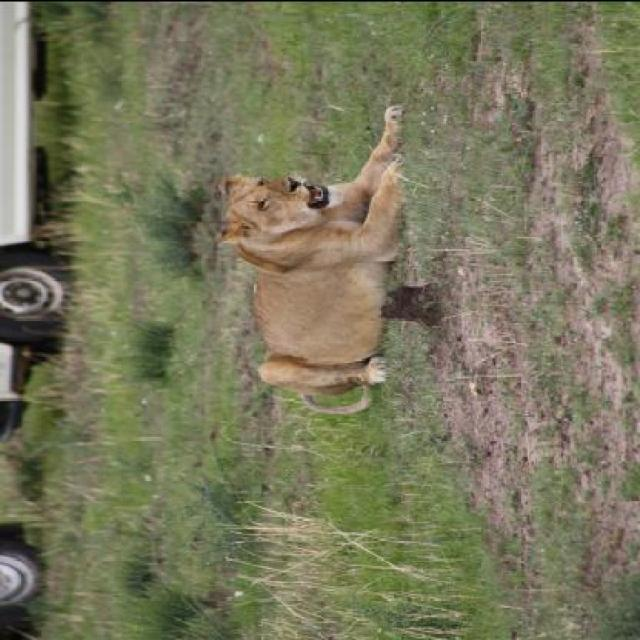Lion: (202, 95, 443, 434)
